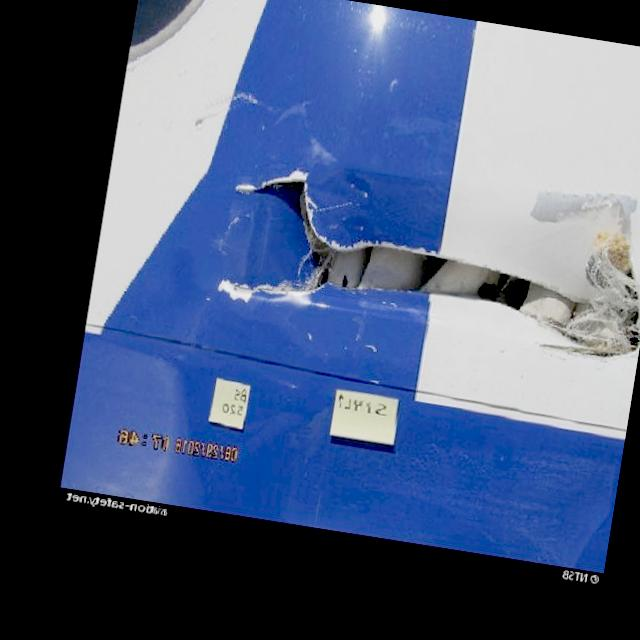crack: (232, 260, 306, 322)
